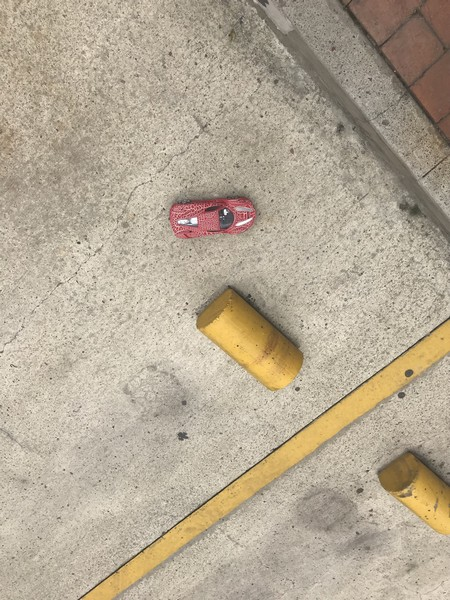RC: (168, 197, 258, 238)
